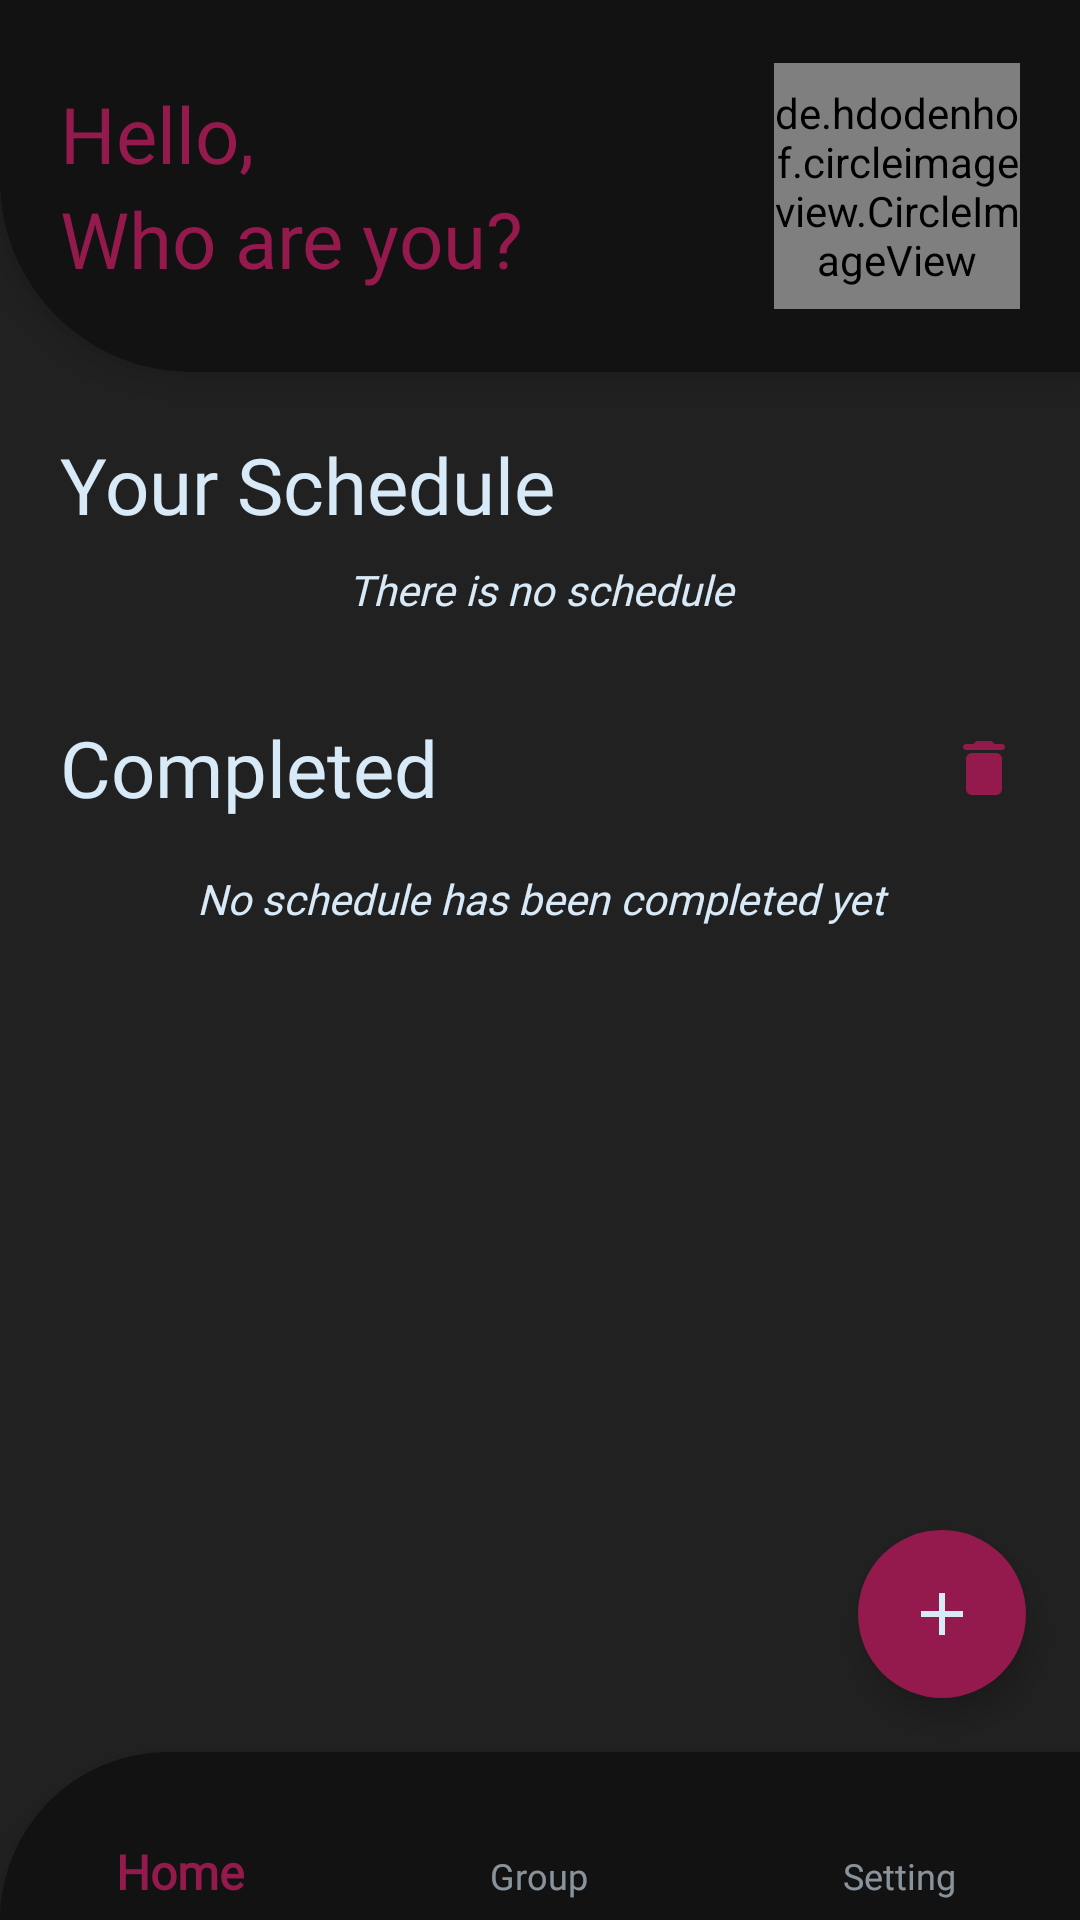

Named icons in this screenshot (1080×1920) and their bounding boxes, (x1, y1, x2, y2):
add: (858, 1530, 1026, 1698)
Icon delete: (963, 741, 1005, 795)
